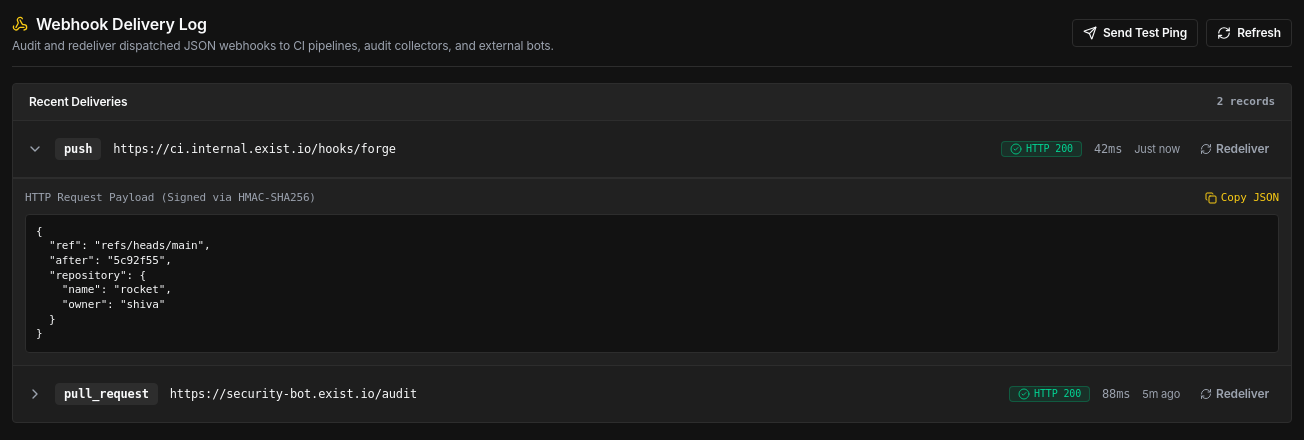
Test case: WebhooksView › redelivers webhook payload upon clicking Redeliver button
Expected: the text "push" is shown, [55, 138, 101, 160]
Click the button "Redeliver" next to "Just now" at (1235, 149), box [1192, 135, 1277, 163]
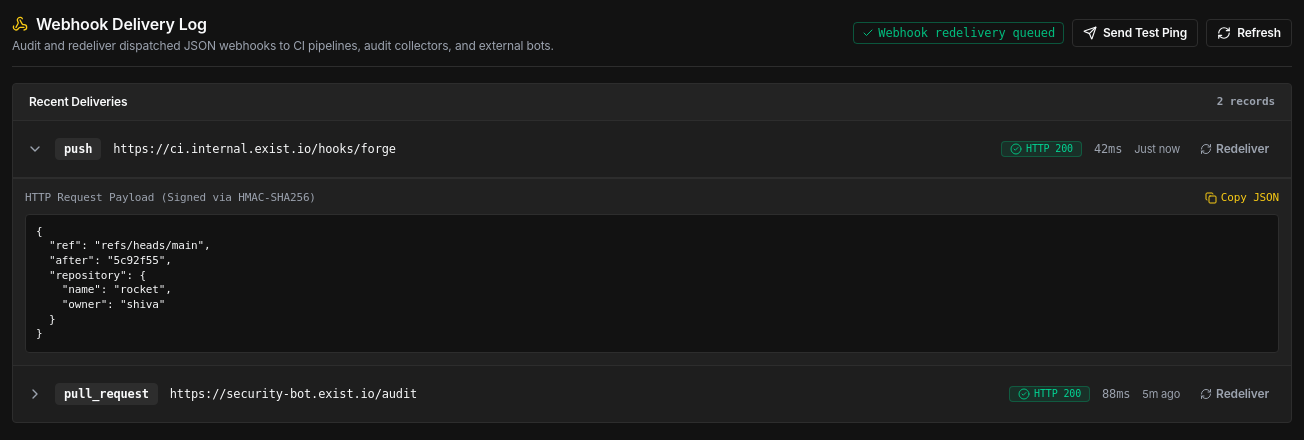
Now the text "Webhook redelivery queued" is shown, box [878, 25, 1055, 41]
